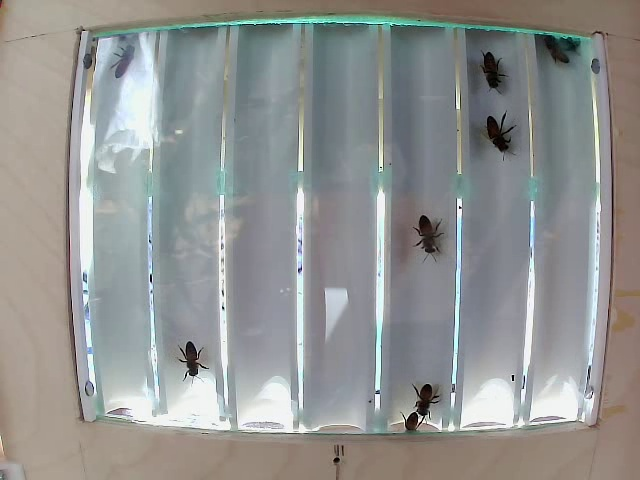bee: (410, 207, 439, 265), (483, 105, 509, 164), (540, 30, 576, 68), (175, 333, 206, 375), (477, 46, 506, 85), (415, 385, 439, 419)
